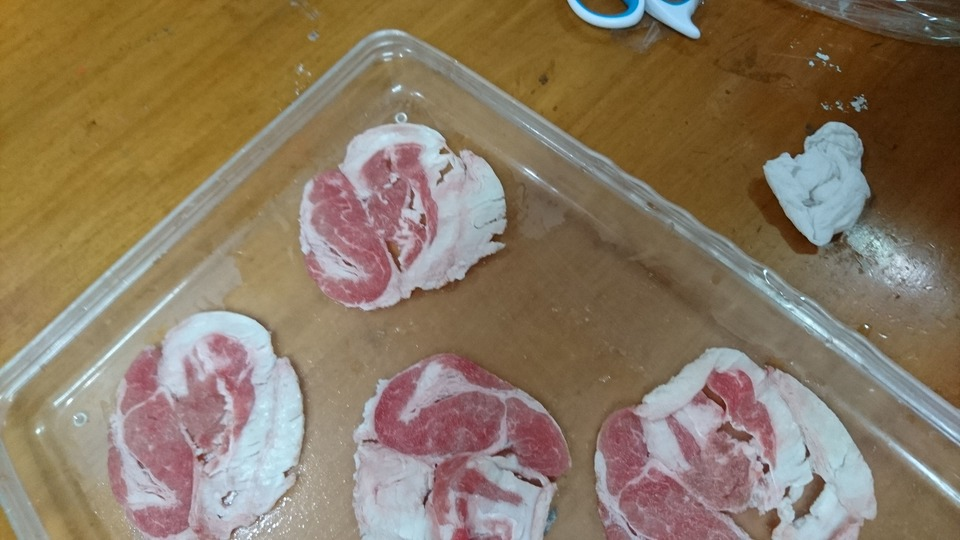restructured meat: (593, 337, 882, 540), (102, 305, 308, 540), (355, 351, 575, 540), (295, 122, 507, 309)
